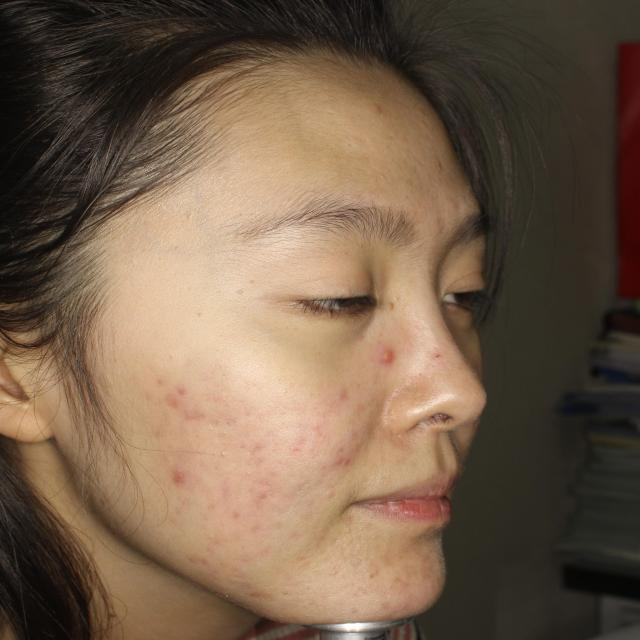acne: (327, 437, 357, 476), (164, 458, 196, 493), (336, 377, 368, 410), (380, 343, 409, 376), (182, 396, 208, 427), (238, 581, 262, 606), (179, 549, 205, 572), (155, 386, 178, 409)
